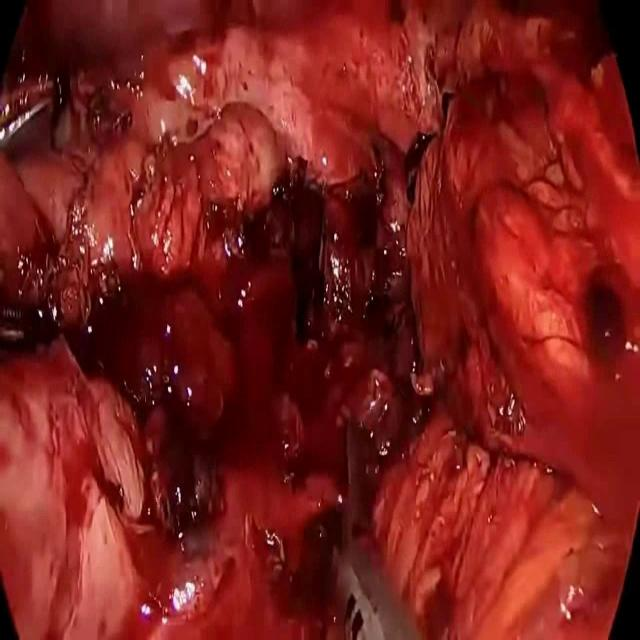surgical-area: (0, 0, 640, 639)
surgical-tool: (334, 541, 420, 639), (0, 302, 34, 346)
